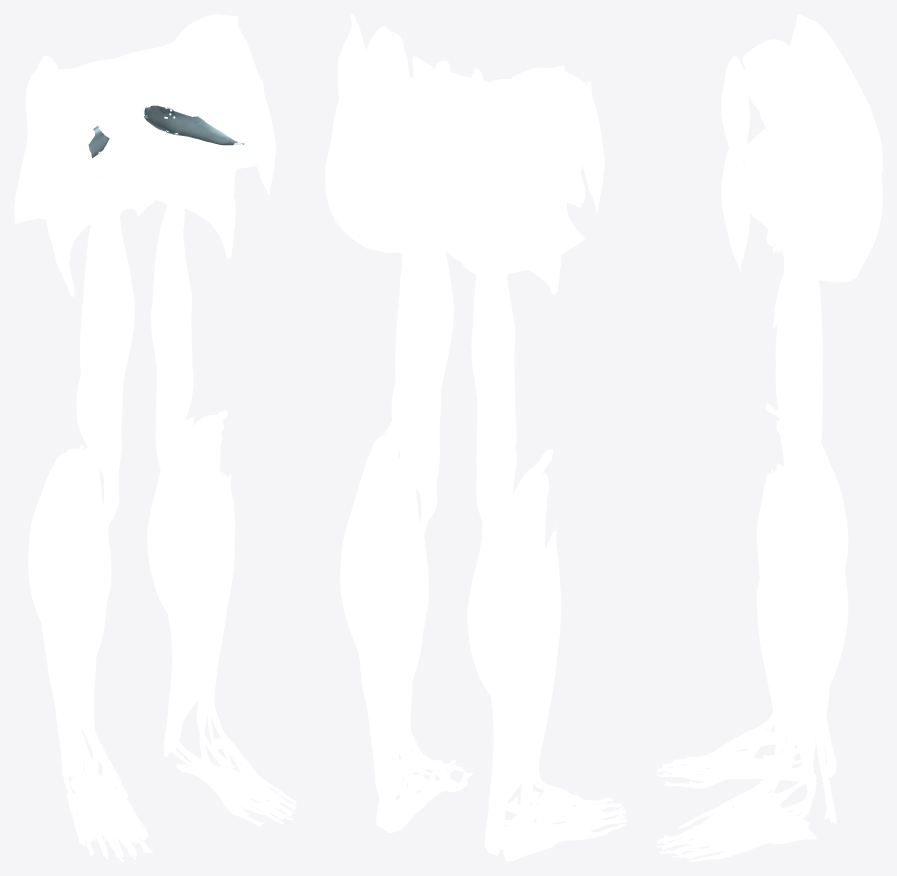
The model's file is zanatomy_full_gluteal.glb.
3 views of the same model, side by side, from view 1: azimuth 30°, elevation 25°; view 2: azimuth 150°, elevation 25°; view 3: azimuth 270°, elevation 25° (orthographic). The views are drawn at different scales.
Visible parts, largest first — view 1: Semimembranosus muscle.r, Semimembranosus muscle.l, Tibialis anterior muscle.r, Medial head of gastrocnemius.l, Gluteal region.r, Tibialis anterior muscle.l, Gluteus maximus muscle.l, Tensor fasciae latae.r, Sacrum, Fibularis longus muscle.r, Gluteus minimus muscle.l, Flexor digitorum longus.l (+40 smaller); view 2: Gluteal region.r, Gluteal region.l, Medial head of gastrocnemius.l, Lateral head of gastrocnemius.r, Semimembranosus muscle.l, Semitendinosus muscle.l, Medial head of gastrocnemius.r, Lateral head of gastrocnemius.l, Semitendinosus muscle.r, Semimembranosus muscle.r, Calcaneal tendon.l, Calcaneal tendon.r (+20 smaller); view 3: Gluteal region.l, Semimembranosus muscle.l, Lateral head of gastrocnemius.l, Fibularis longus muscle.l, Gluteal region.r, Tibialis anterior muscle.l, Gluteus medius muscle.l, Semitendinosus muscle.l, Tensor fasciae latae.l, Gluteus maximus muscle.l, Tensor fasciae latae.r, Extensor digitorum longus.l (+24 smaller).
Part boxes in pixels (x1,y1,x2,y2): Semimembranosus muscle.r: (76, 210, 134, 526); Semimembranosus muscle.l: (151, 194, 193, 506); Tibialis anterior muscle.r: (64, 521, 128, 797); Medial head of gastrocnemius.l: (147, 417, 193, 612); Gluteal region.r: (14, 55, 128, 224); Tibialis anterior muscle.l: (199, 483, 234, 776); Gluteus maximus muscle.l: (129, 51, 237, 257); Tensor fasciae latae.r: (55, 124, 93, 244); Sacrum: (97, 62, 177, 143); Fibularis longus muscle.r: (38, 512, 109, 805); Gluteus minimus muscle.l: (198, 67, 255, 156); Flexor digitorum longus.l: (167, 525, 295, 823); Gluteal region.r: (421, 65, 594, 274); Gluteal region.l: (325, 14, 435, 246); Medial head of gastrocnemius.l: (370, 455, 428, 676); Lateral head of gastrocnemius.r: (496, 473, 549, 701); Semimembranosus muscle.l: (391, 242, 453, 519); Semitendinosus muscle.l: (395, 246, 430, 535); Medial head of gastrocnemius.r: (467, 449, 516, 702); Lateral head of gastrocnemius.l: (340, 435, 384, 664); Semitendinosus muscle.r: (476, 274, 505, 522); Semimembranosus muscle.r: (471, 274, 516, 510); Calcaneal tendon.l: (362, 655, 408, 829); Calcaneal tendon.r: (486, 686, 531, 855); Gluteal region.l: (775, 105, 882, 282); Semimembranosus muscle.l: (772, 255, 817, 551); Lateral head of gastrocnemius.l: (784, 490, 848, 688); Fibularis longus muscle.l: (758, 556, 812, 833); Gluteal region.r: (790, 14, 882, 176); Tibialis anterior muscle.l: (732, 551, 786, 806); Gluteus medius muscle.l: (742, 108, 800, 251); Semitendinosus muscle.l: (782, 282, 822, 563); Tensor fasciae latae.l: (721, 145, 750, 269); Gluteus maximus muscle.l: (773, 208, 815, 328); Tensor fasciae latae.r: (721, 55, 750, 159); Extensor digitorum longus.l: (771, 546, 795, 784).
Bounding box in the file's own units: 0.3411 × 1.01 × 0.2768.
